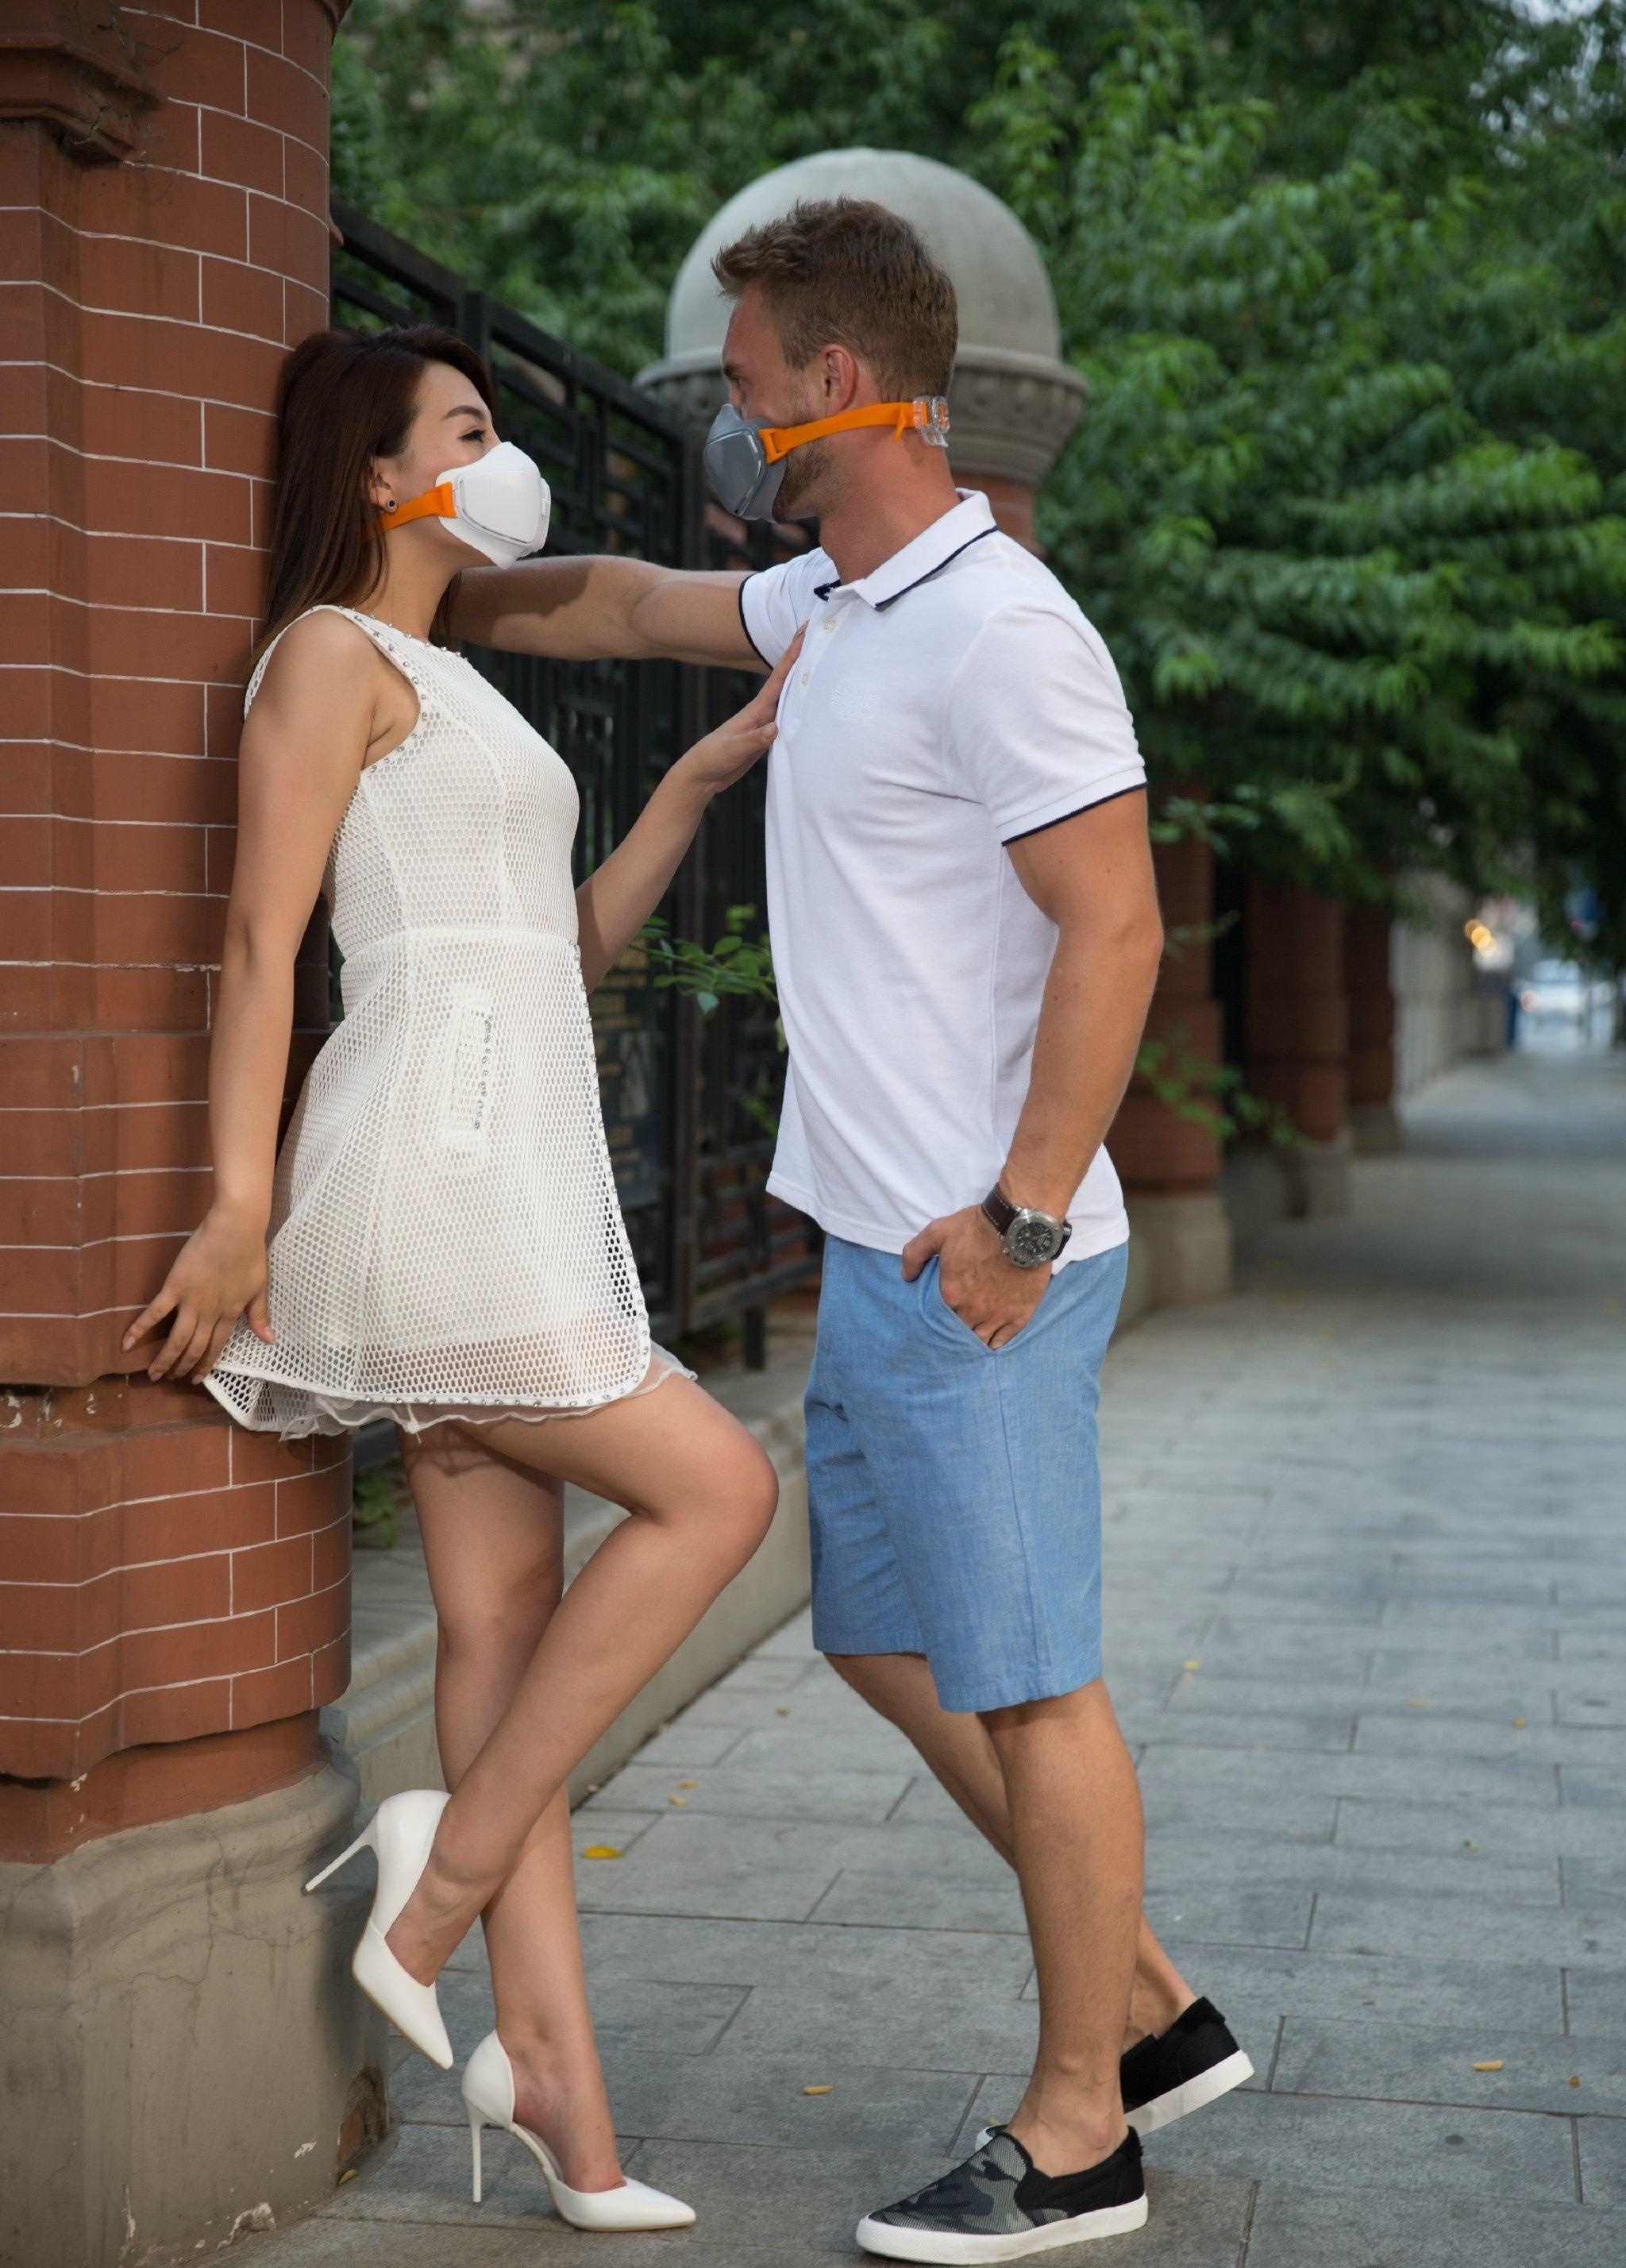Mask: (410, 399, 586, 574)
